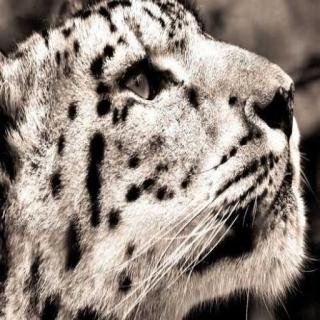Leopard: (7, 1, 303, 320)
